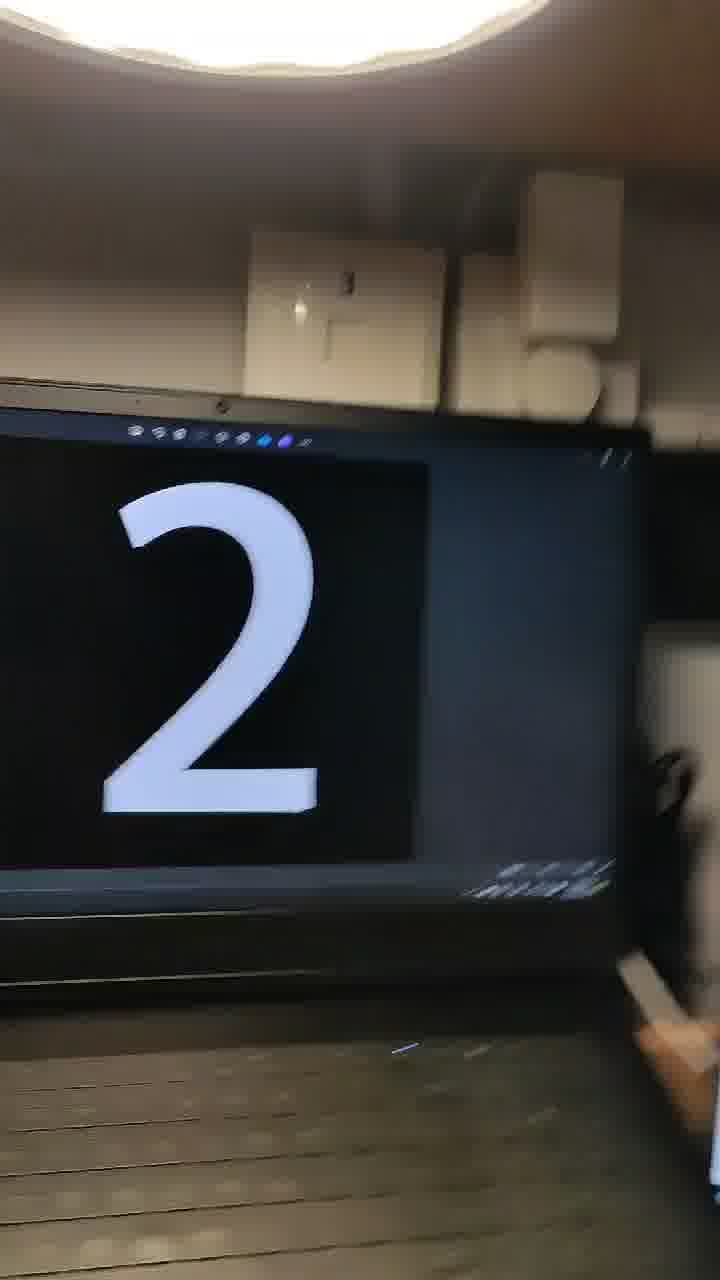two: (1, 370, 396, 889)
